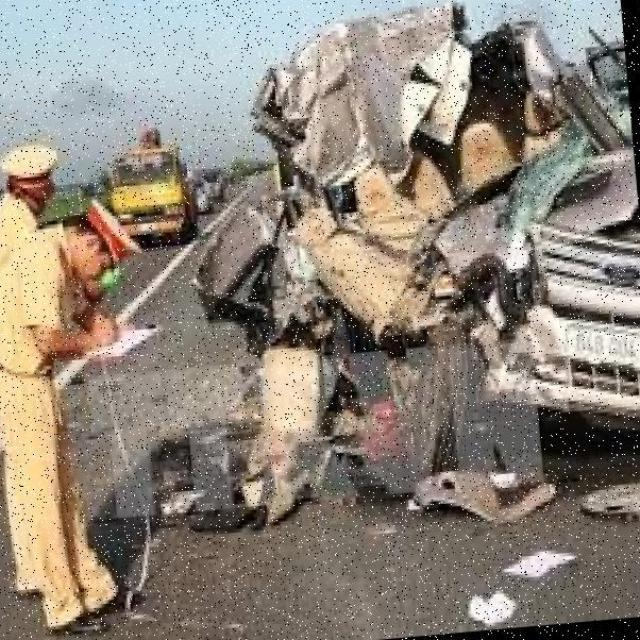accident: (170, 0, 640, 538)
